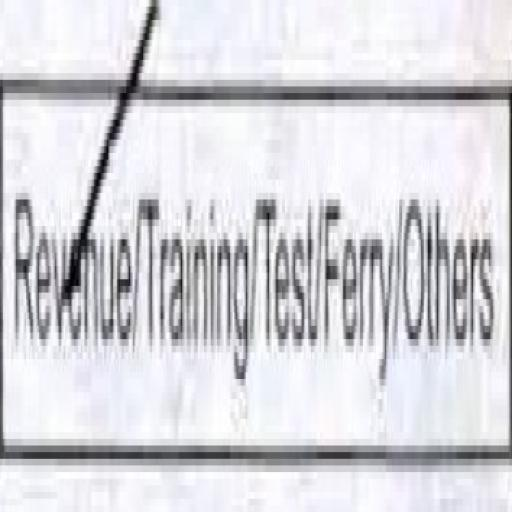check: (1, 0, 137, 486)
